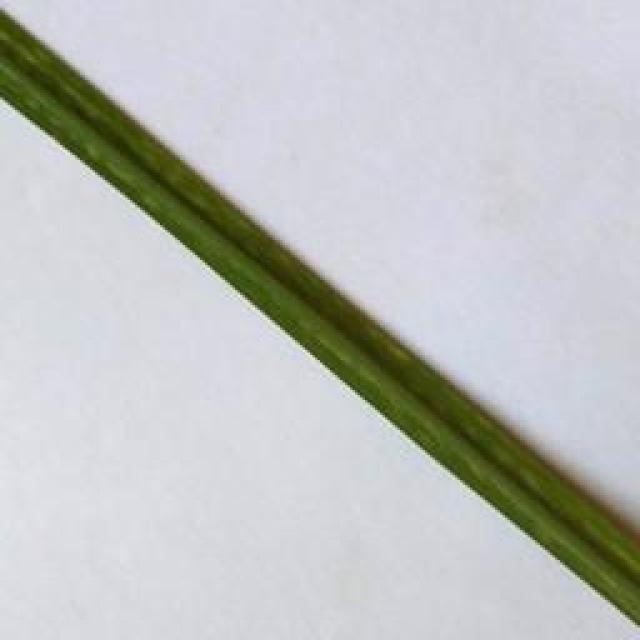Healthy-Plant: (0, 12, 640, 622)
